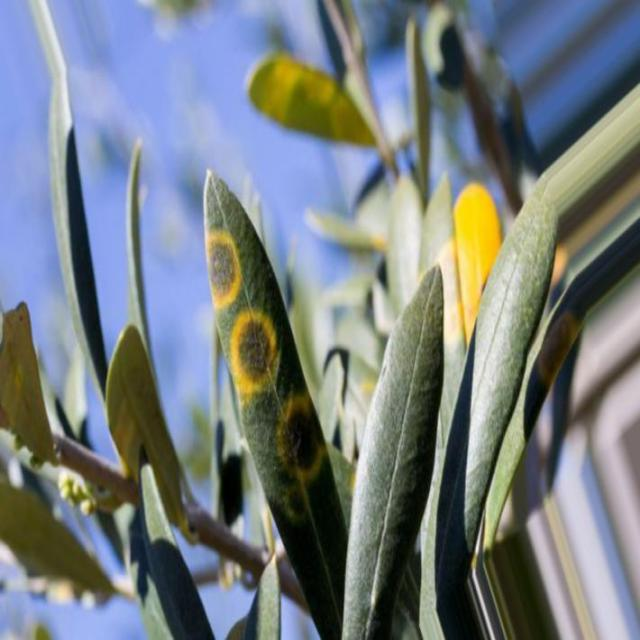Peacock Eye: (204, 173, 346, 639)
